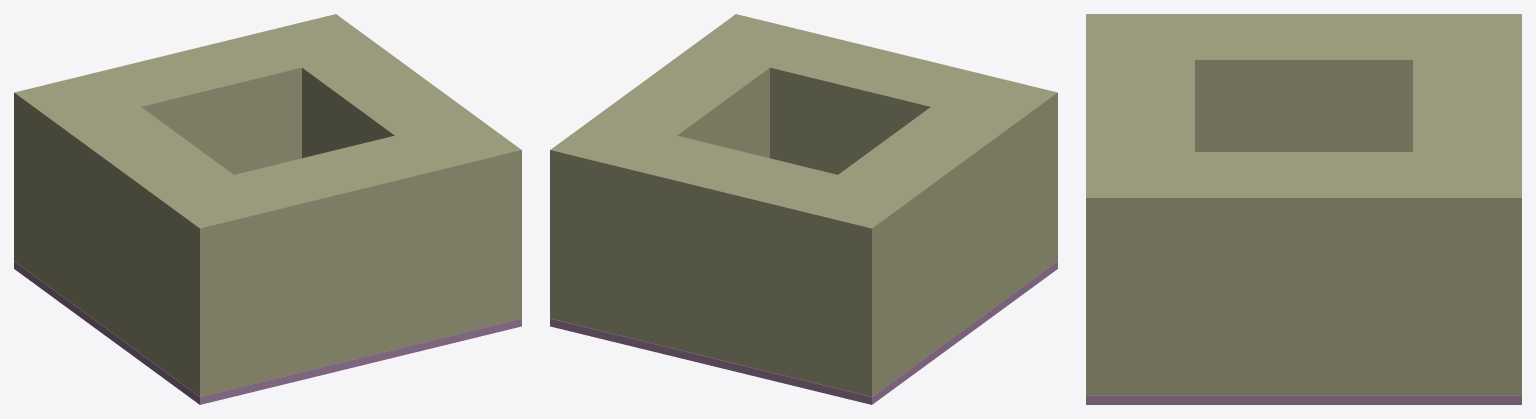
File: Cell.fbx
3 renders of one model, left to right at view 1: azimuth 30°, elevation 25°; view 2: azimuth 150°, elevation 25°; view 3: azimuth 270°, elevation 25°, orthographic. The views are drawn at different scales.
Parts seen in each view (by area): view 1: Bottom, CornerBottomRight, Right, UP, CornerBottomLeft, CornerUPRight, Left, Base, CornerUPLeft; view 2: UP, CornerUPRight, Right, Bottom, CornerUPLeft, CornerBottomRight, Left, Base, CornerBottomLeft; view 3: Left, Right, CornerBottomLeft, CornerUPLeft, Bottom, UP, CornerUPRight, CornerBottomRight, Base.
Boxes of the visible parts, x1,y1,x2,y2 form: Bottom: [234, 135, 441, 377]; CornerBottomRight: [153, 175, 280, 396]; Right: [60, 107, 233, 362]; UP: [95, 33, 301, 174]; CornerBottomLeft: [395, 116, 521, 337]; CornerUPRight: [14, 73, 140, 294]; Left: [302, 48, 474, 158]; Base: [14, 261, 521, 404]; CornerUPLeft: [256, 14, 381, 67]; UP: [630, 135, 837, 377]; CornerUPRight: [791, 175, 918, 396]; Right: [838, 107, 1011, 362]; Bottom: [770, 33, 976, 174]; CornerUPLeft: [550, 116, 676, 337]; CornerBottomRight: [931, 73, 1057, 294]; Left: [597, 48, 769, 158]; Base: [550, 261, 1057, 404]; CornerBottomLeft: [690, 14, 815, 67]; Left: [1195, 152, 1412, 395]; Right: [1195, 14, 1412, 151]; CornerBottomLeft: [1086, 152, 1194, 395]; CornerUPLeft: [1413, 152, 1521, 395]; Bottom: [1086, 60, 1194, 151]; UP: [1413, 60, 1521, 151]; CornerUPRight: [1413, 14, 1521, 59]; CornerBottomRight: [1086, 14, 1194, 59]; Base: [1086, 395, 1521, 404].
Bounding box in the file's own units: 2 × 1.05 × 2.
